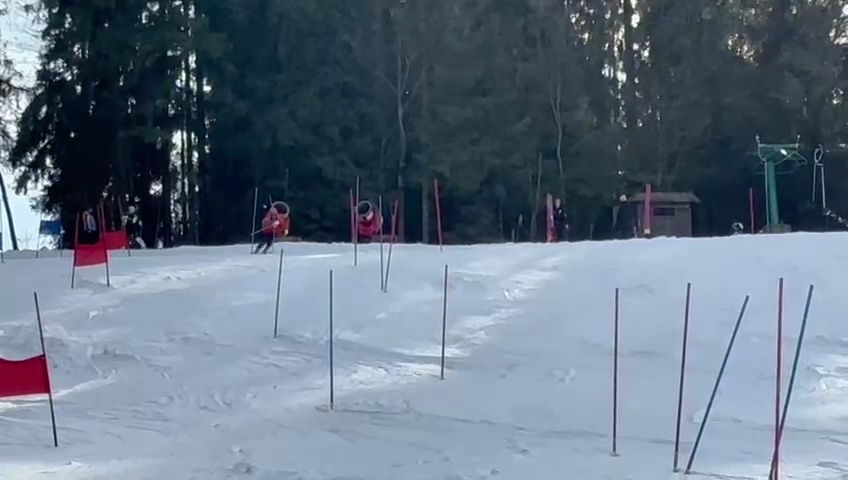gate: (683, 288, 751, 480), (770, 273, 816, 480), (764, 273, 797, 480), (25, 287, 66, 452), (673, 277, 692, 476), (606, 278, 626, 456), (321, 264, 344, 411), (669, 289, 686, 475), (435, 261, 456, 380), (0, 292, 15, 452), (383, 189, 401, 298), (270, 242, 288, 342), (94, 197, 113, 286), (68, 203, 84, 287), (430, 175, 447, 250), (375, 194, 387, 297), (245, 184, 260, 257), (350, 178, 362, 269), (545, 191, 558, 246), (542, 190, 554, 245)
